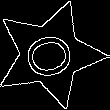O_E: (18, 26, 81, 82)
